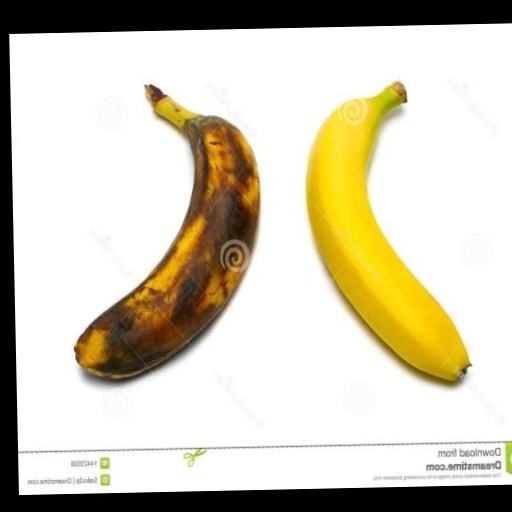fruit: (74, 86, 259, 378), (306, 82, 468, 380)
